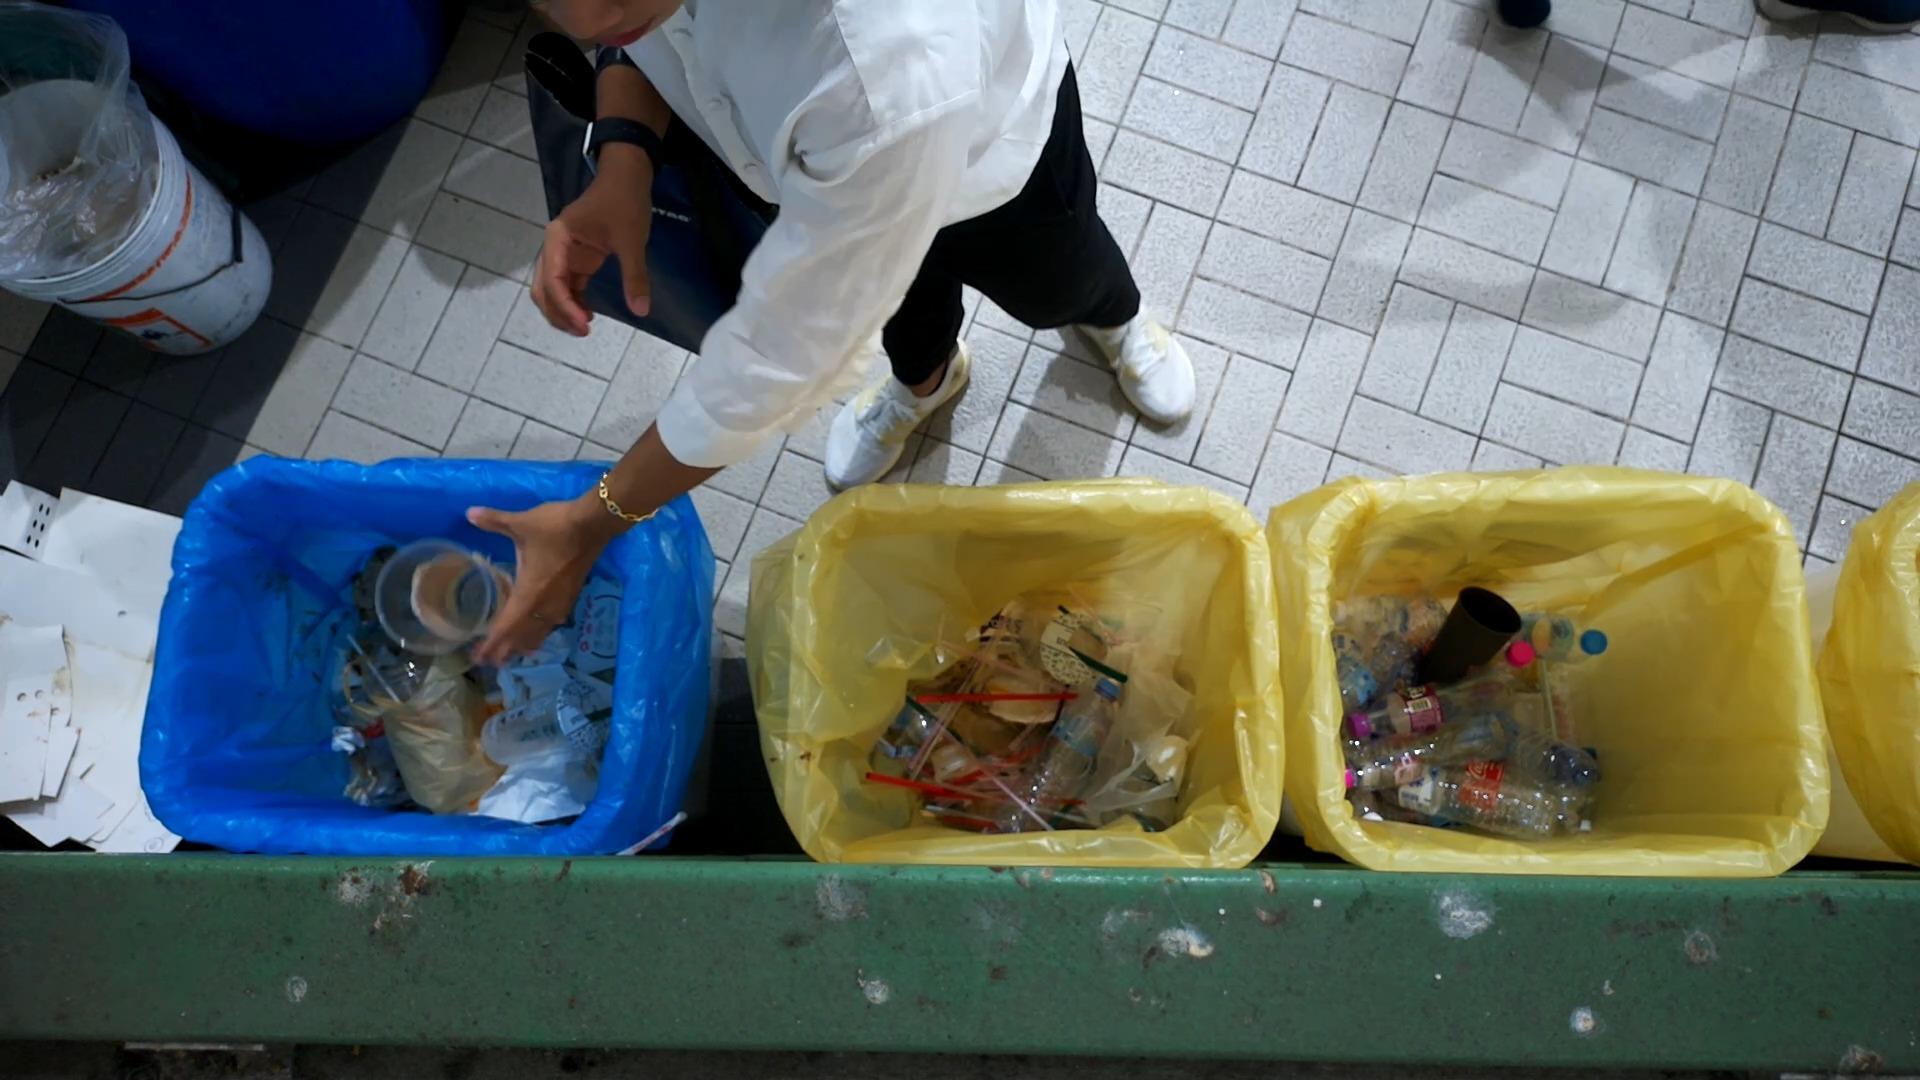filled plastic bag: (338, 612, 527, 799)
food container: (554, 575, 642, 676)
plastic bag: (1085, 618, 1204, 822)
plastic bottle: (1001, 676, 1137, 816), (1344, 696, 1506, 803), (1361, 762, 1556, 840), (1337, 673, 1502, 745), (1335, 587, 1448, 641), (1518, 604, 1610, 666)
plastic cup: (369, 533, 514, 658), (1400, 585, 1532, 707), (479, 678, 616, 770), (1009, 608, 1120, 687)
straw: (910, 613, 1021, 787), (943, 698, 1080, 836), (853, 766, 993, 808), (1025, 679, 1073, 781), (947, 740, 1048, 785), (911, 690, 1085, 708), (1062, 645, 1137, 683), (584, 702, 625, 725)
tissue paper: (465, 711, 579, 824), (1145, 736, 1192, 794)
